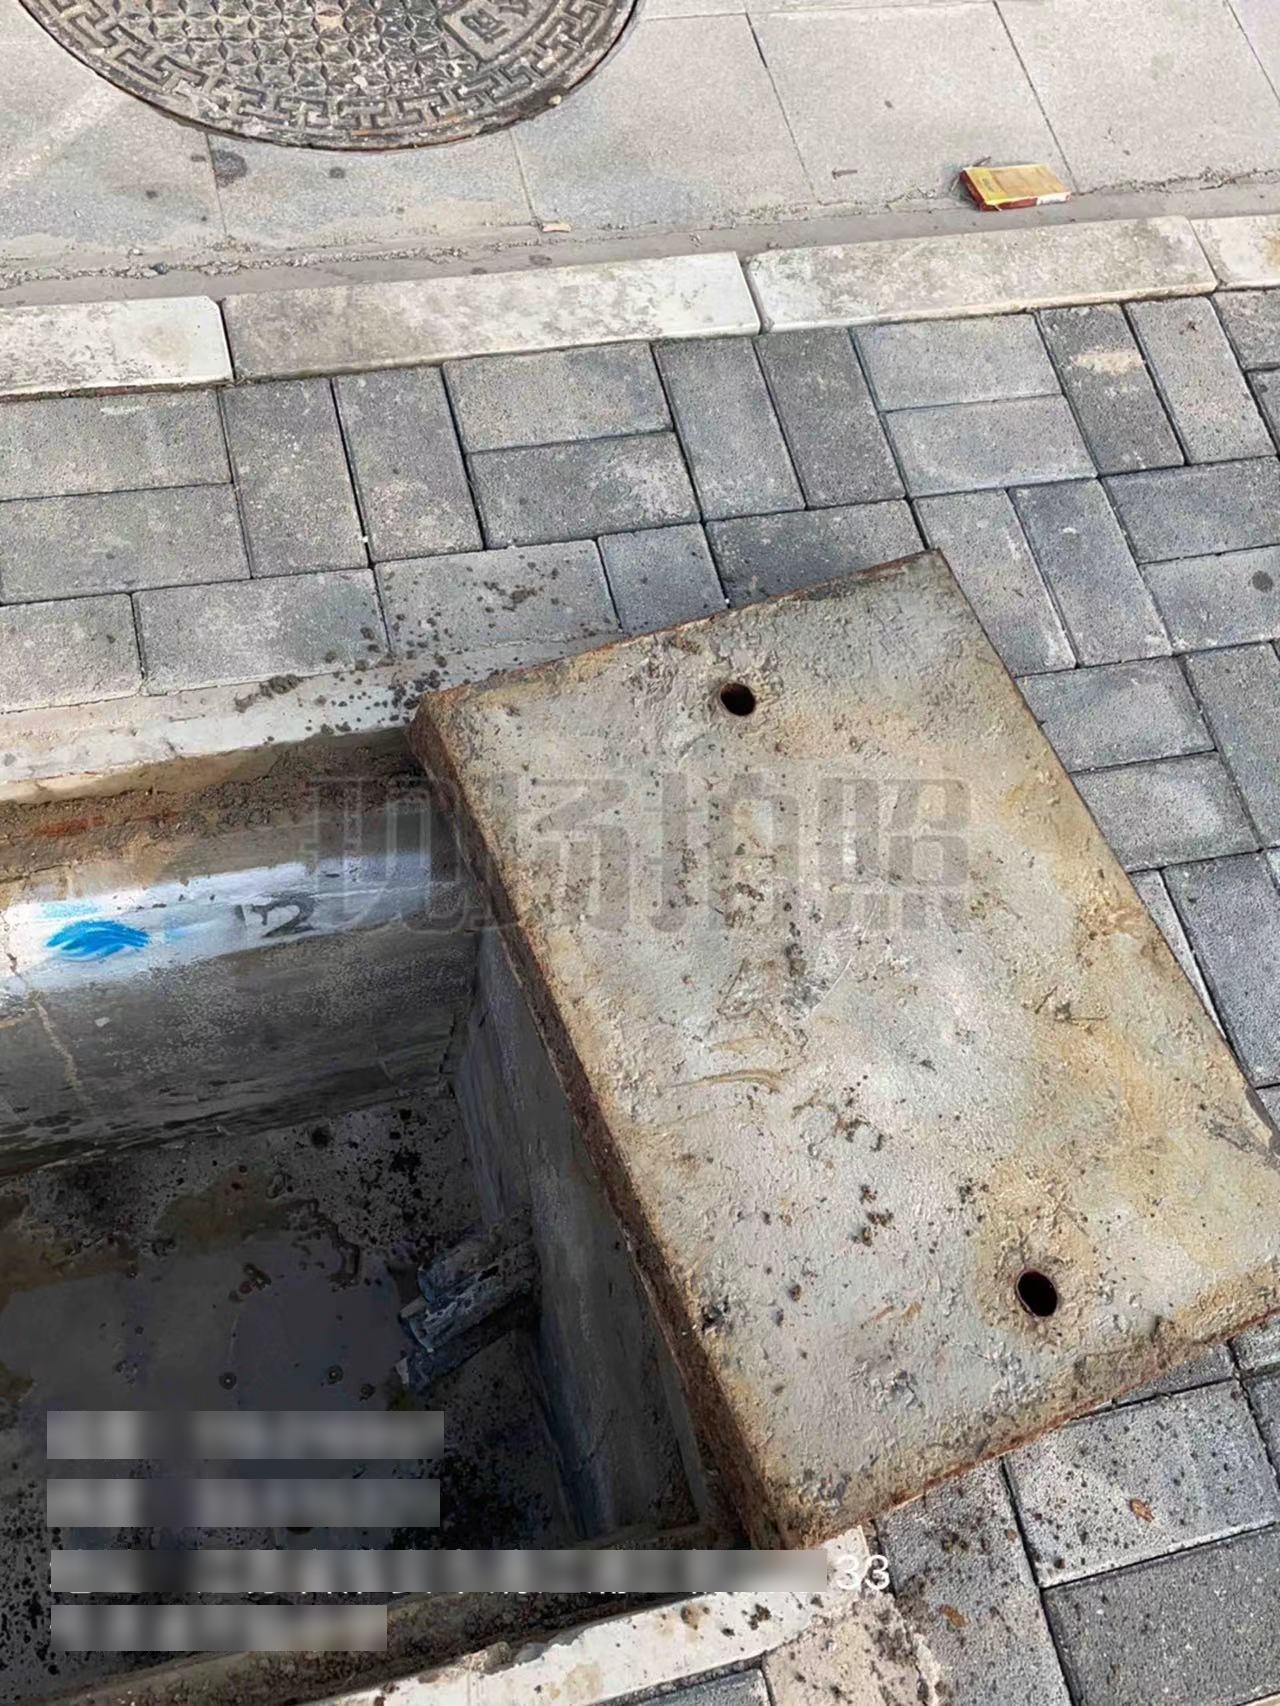uncovered: (7, 554, 1280, 1674)
